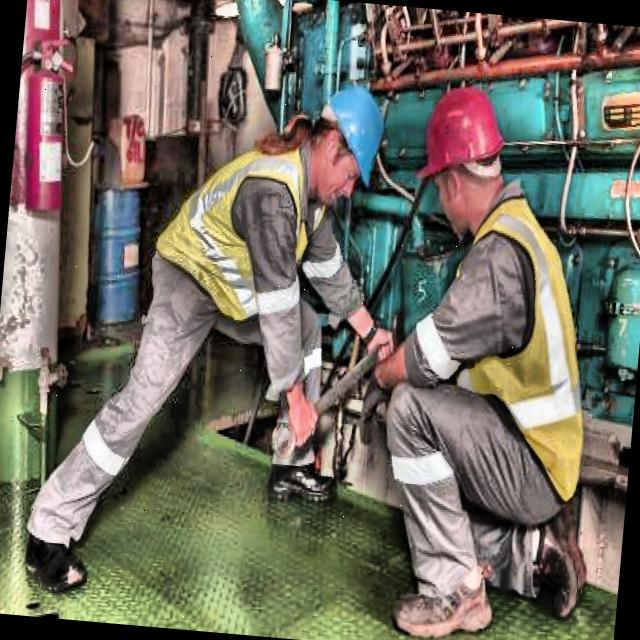helmet: (410, 78, 520, 230), (295, 71, 395, 207)
